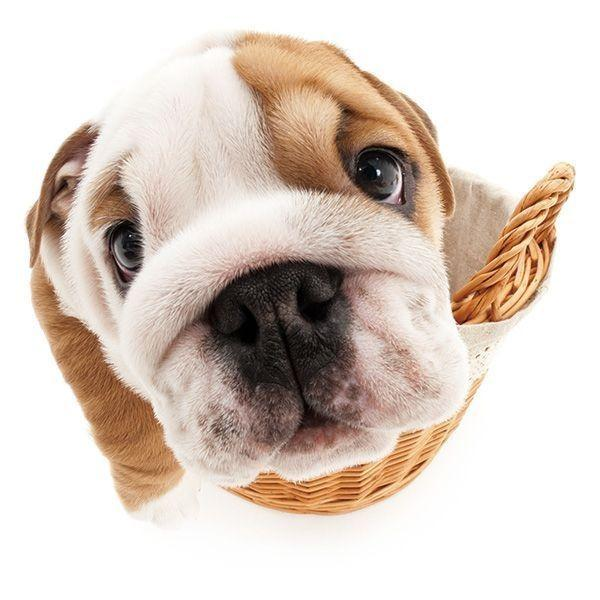puppy-dog: (13, 26, 471, 528)
